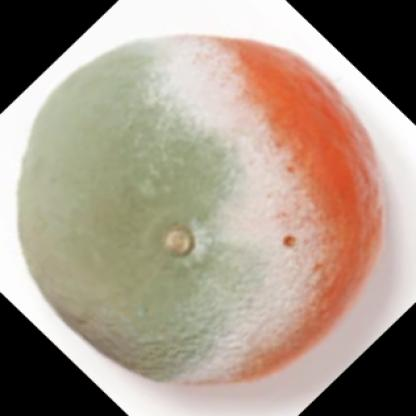rotten: (19, 34, 383, 392)
